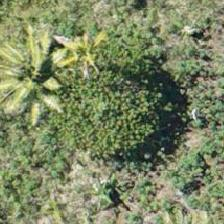coconut_tree: (38, 11, 128, 101), (0, 35, 77, 125)
